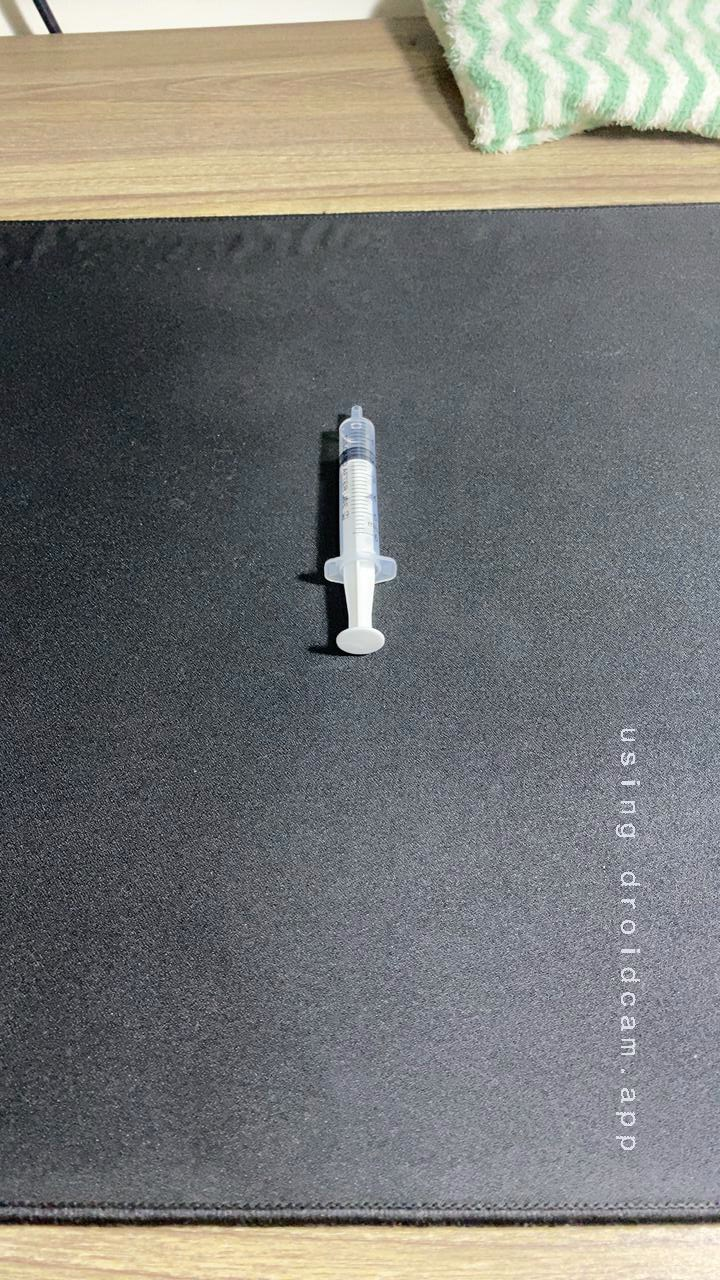syringe: (293, 387, 418, 664)
